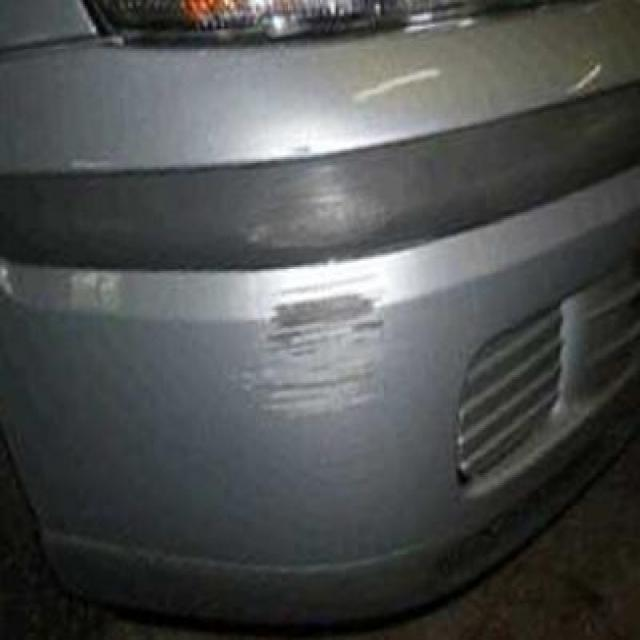scratch: (220, 277, 410, 426)
